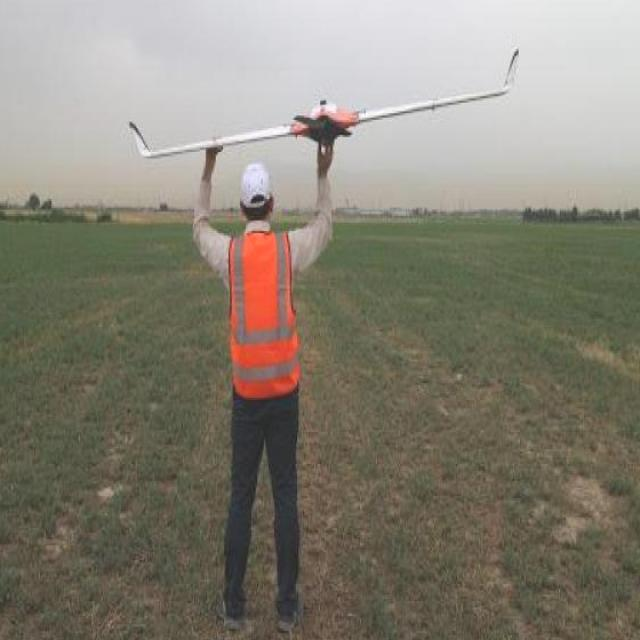plane: (127, 46, 520, 159)
